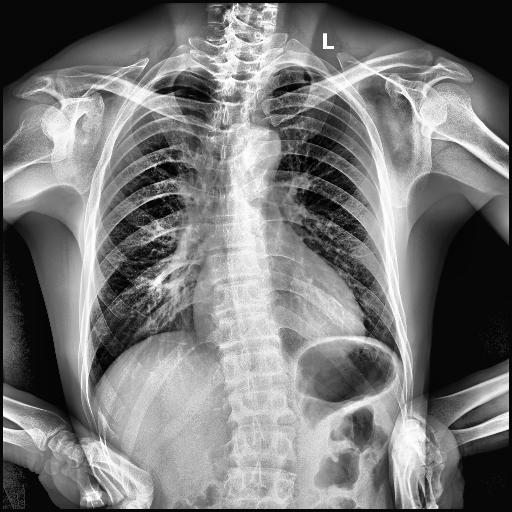0- Aortic enlargement: (236, 126, 280, 176)
3- Cardiomegaly: (190, 287, 366, 360), (192, 282, 365, 344), (190, 290, 366, 343)
